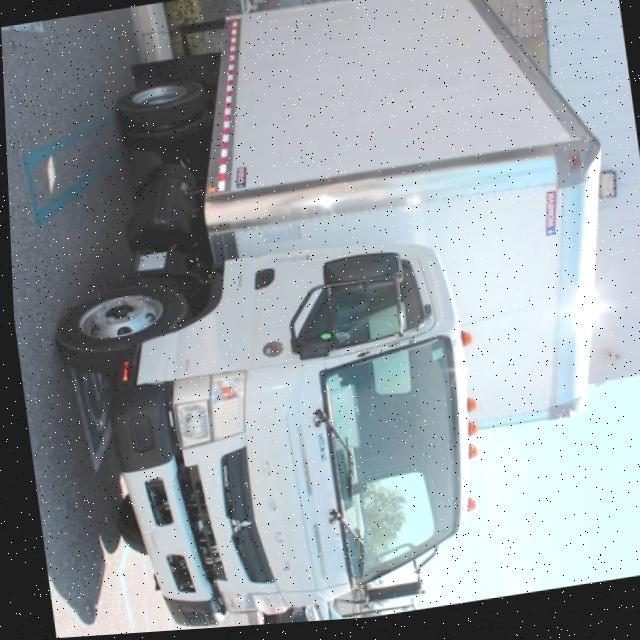truck: (25, 0, 640, 639)
